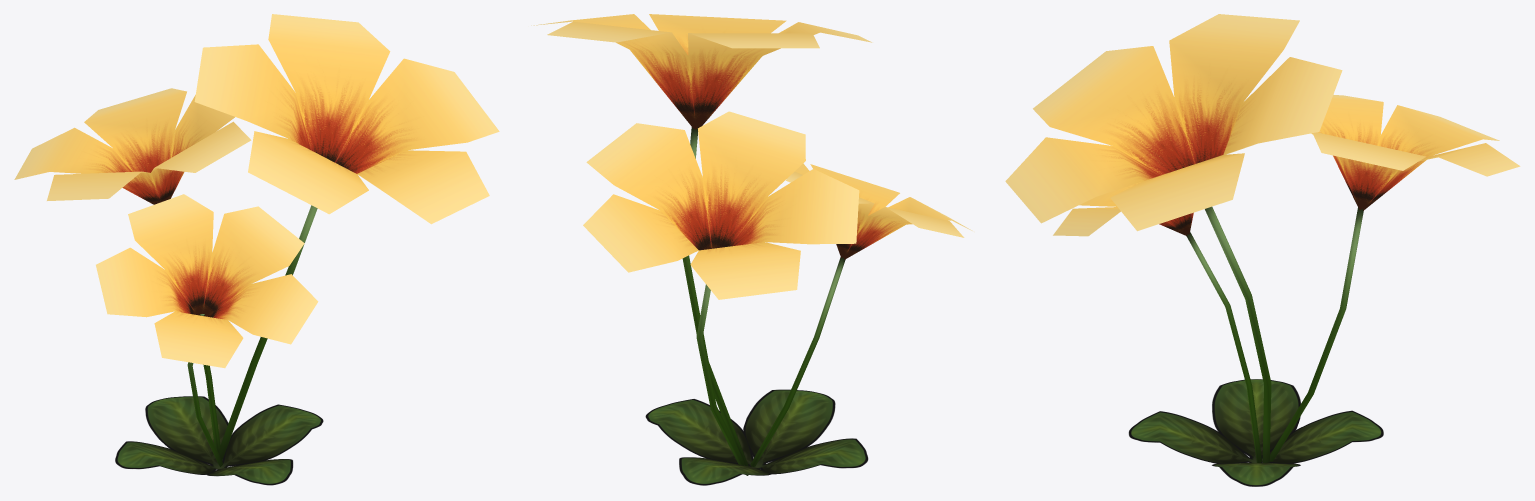
File: Flower11.glb
The picture shows the model from 3 angles, left to right: view 1: azimuth 30°, elevation 25°; view 2: azimuth 150°, elevation 25°; view 3: azimuth 270°, elevation 25°; orthographic projection. The views are drawn at different scales.
Parts seen in each view (by area): view 1: Yellow Flowers_Flowers_0; view 2: Yellow Flowers_Flowers_0; view 3: Yellow Flowers_Flowers_0.
Boxes of the visible parts, x1=… form: Yellow Flowers_Flowers_0: x1=14, y1=14, x2=499, y2=485; Yellow Flowers_Flowers_0: x1=531, y1=14, x2=972, y2=485; Yellow Flowers_Flowers_0: x1=1005, y1=14, x2=1520, y2=486.
Bounding box in the file's own units: 0.1402 × 0.1452 × 0.1508.
Materials: 1 (1 with a texture image).
